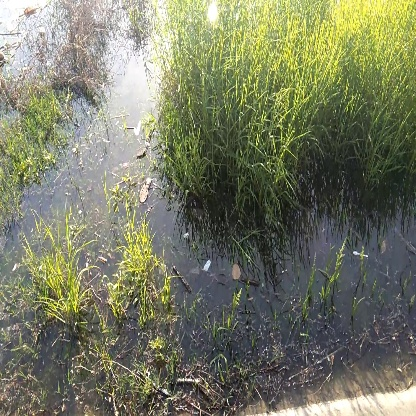grass: (19, 237, 96, 326)
